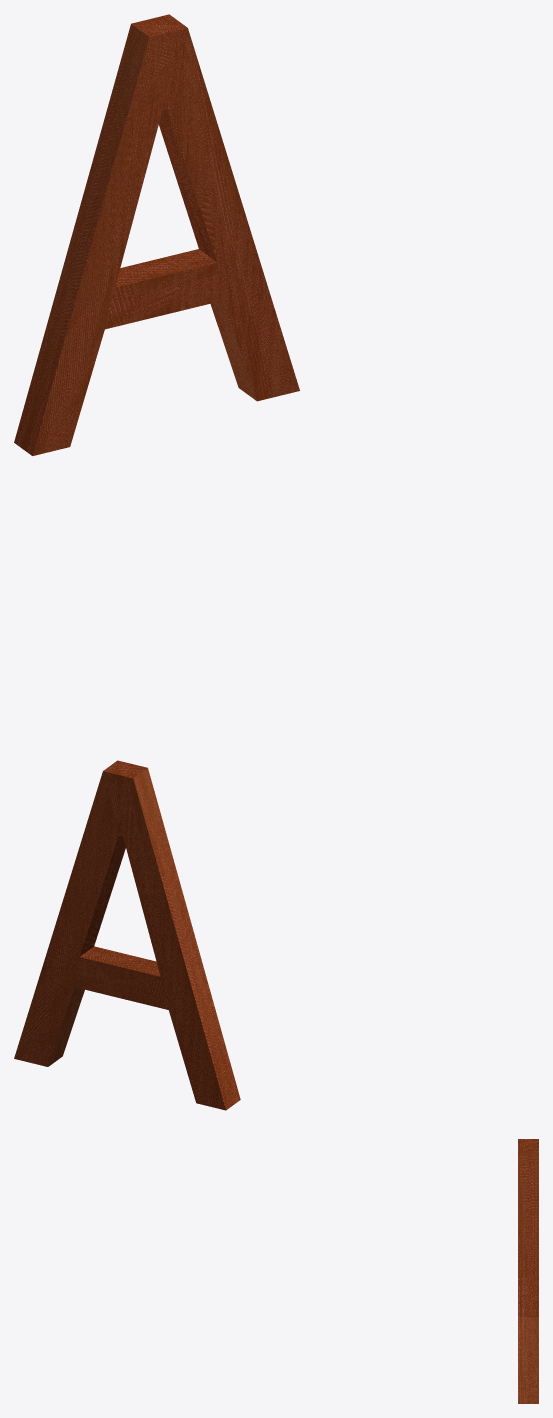
3 renders of one model, top to bottom at view 1: azimuth 30°, elevation 25°; view 2: azimuth 150°, elevation 25°; view 3: azimuth 270°, elevation 25°, orthographic. The views are drawn at different scales.
Parts seen in each view (by area): view 1: node-0; view 2: node-0; view 3: node-0.
Boxes of the visible parts, x1,y1,x2,y2 form: node-0: [14, 14, 299, 455]; node-0: [14, 760, 240, 1110]; node-0: [518, 1139, 538, 1403].
Bounding box in the file's own units: 5603 × 7809 × 16672.
40 materials, 1 textured.
